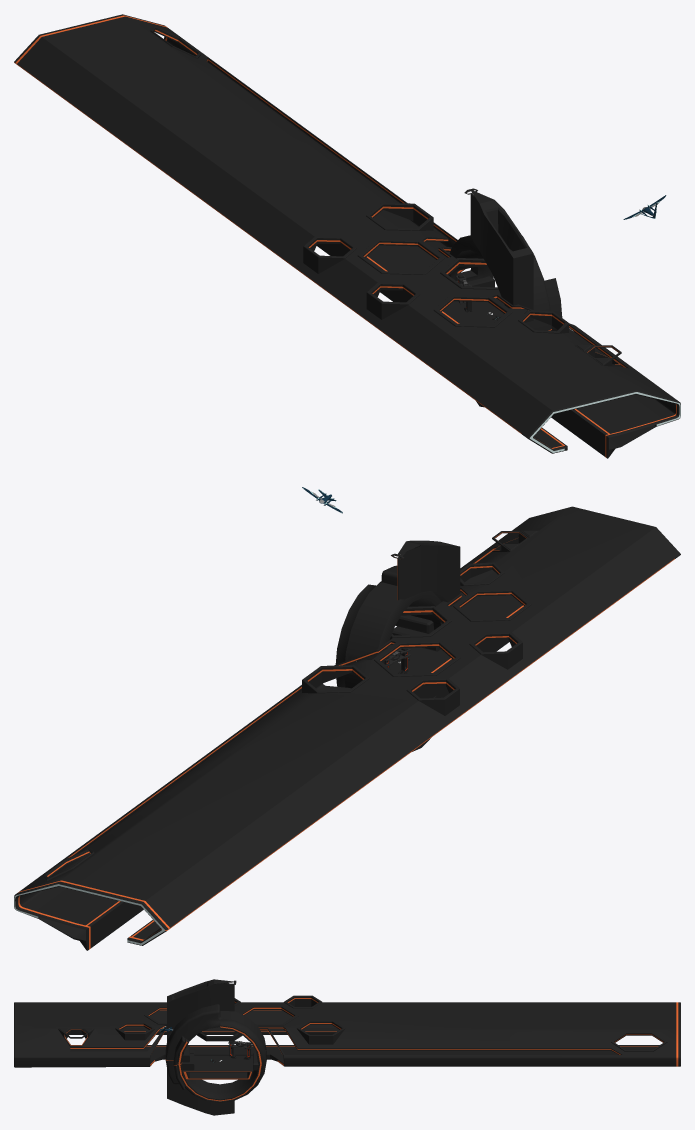
The model's file is tron.glb.
3 views of the same model, one above another, from view 1: azimuth 30°, elevation 25°; view 2: azimuth 150°, elevation 25°; view 3: azimuth 270°, elevation 25° (orthographic). The views are drawn at different scales.
Visible parts, largest first — view 1: CarrierShip:polySurface13, CarrierShip:polySurface15, CarrierShip:polySurface6, CarrierShip:polySurface5; view 2: CarrierShip:polySurface13, CarrierShip:polySurface6, CarrierShip:polySurface15; view 3: CarrierShip:polySurface13, CarrierShip:polySurface6, CarrierShip:polySurface15, CarrierShip:polySurface5, CarrierShip:polySurface4, CarrierShip:polySurface14, CarrierShip:polySurface12.
Boxes of the visible parts, x1,y1,x2,y2 form: CarrierShip:polySurface13: (14,14,680,458); CarrierShip:polySurface15: (470,190,533,322); CarrierShip:polySurface6: (449,235,562,331); CarrierShip:polySurface5: (451,299,504,324); CarrierShip:polySurface13: (14,506,680,950); CarrierShip:polySurface6: (335,565,442,688); CarrierShip:polySurface15: (397,540,460,606); CarrierShip:polySurface13: (14,995,680,1067); CarrierShip:polySurface6: (165,1004,266,1102); CarrierShip:polySurface15: (167,979,234,1044); CarrierShip:polySurface5: (182,1055,253,1079); CarrierShip:polySurface4: (167,1069,234,1115); CarrierShip:polySurface14: (197,1032,242,1041); CarrierShip:polySurface12: (64,1028,88,1046).
Size of the model in its own units: 101 by 76.04 by 350.
